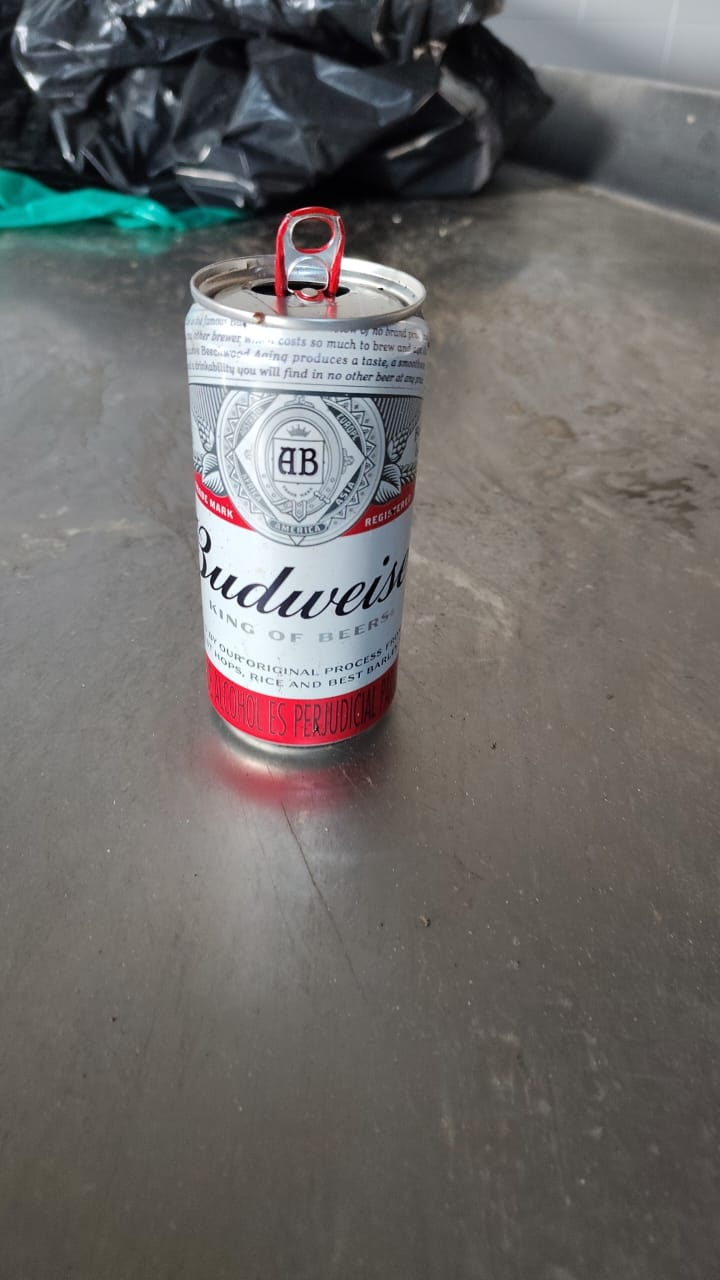Metal: (186, 262, 430, 757)
